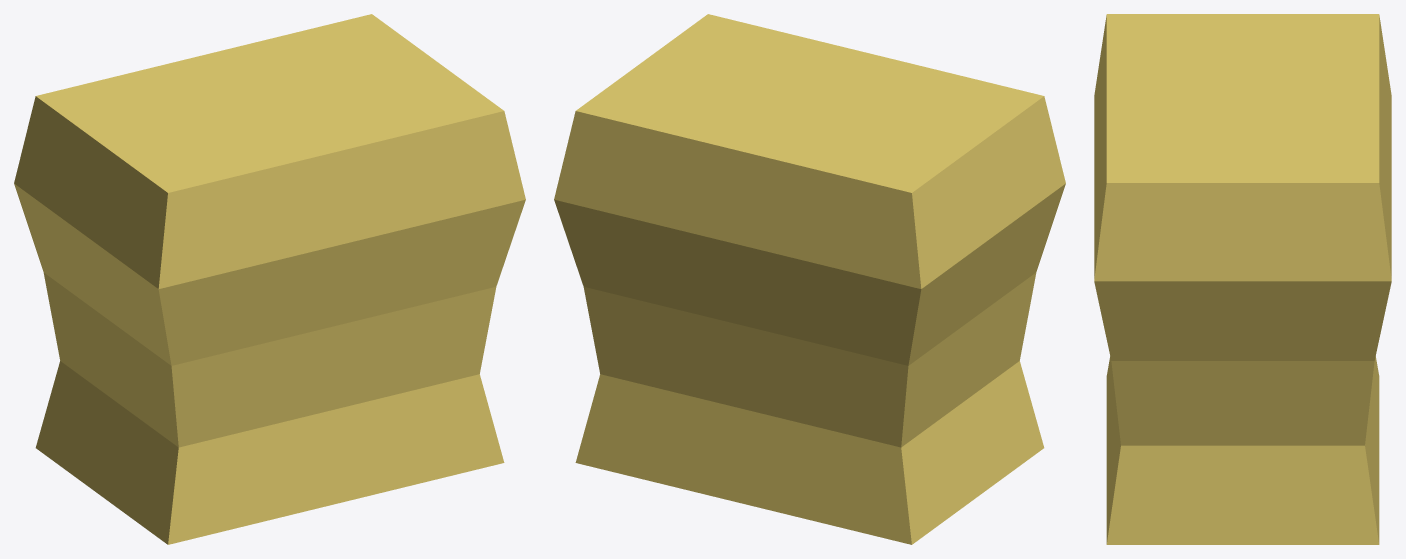
File: hay-village-7.glb
3 renders of one model, left to right at view 1: azimuth 30°, elevation 25°; view 2: azimuth 150°, elevation 25°; view 3: azimuth 270°, elevation 25°, orthographic. The views are drawn at different scales.
Parts seen in each view (by area): view 1: piece; view 2: piece; view 3: piece.
Part boxes in pixels (x1,y1,x2,y2): piece: (14,14,525,544); piece: (554,14,1065,544); piece: (1094,14,1391,544).
Size of the model in its own units: 1.58 by 1.45 by 1.08.
